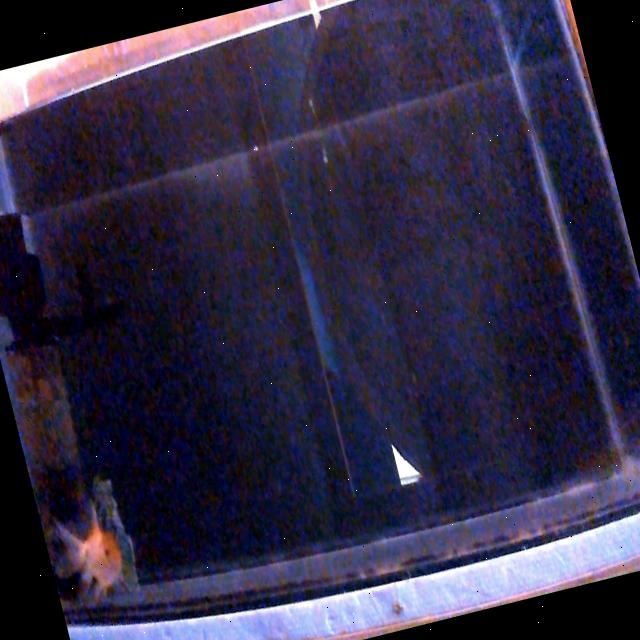fish: (45, 503, 134, 608)
